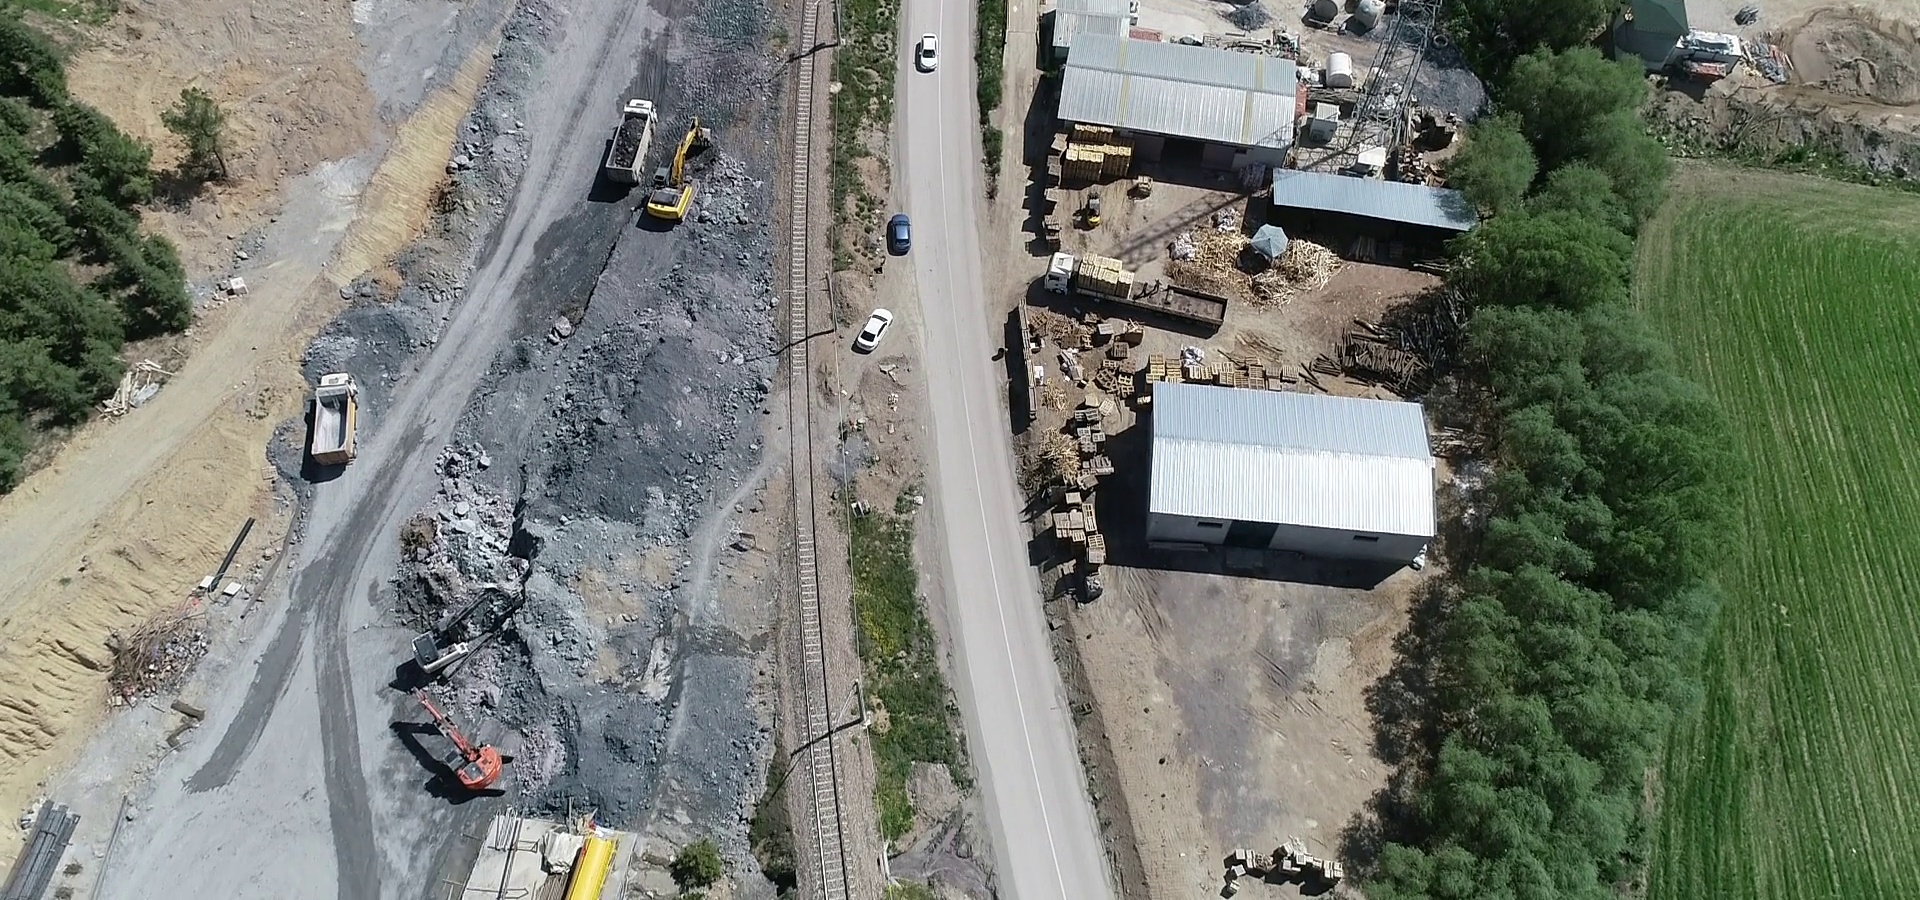araba: (851, 302, 907, 351), (909, 29, 950, 78), (883, 206, 916, 256)
ismakinesi: (405, 662, 509, 812), (408, 571, 535, 680), (632, 107, 725, 229), (307, 362, 371, 465)
kamyon: (1035, 249, 1248, 349), (596, 87, 671, 192)
